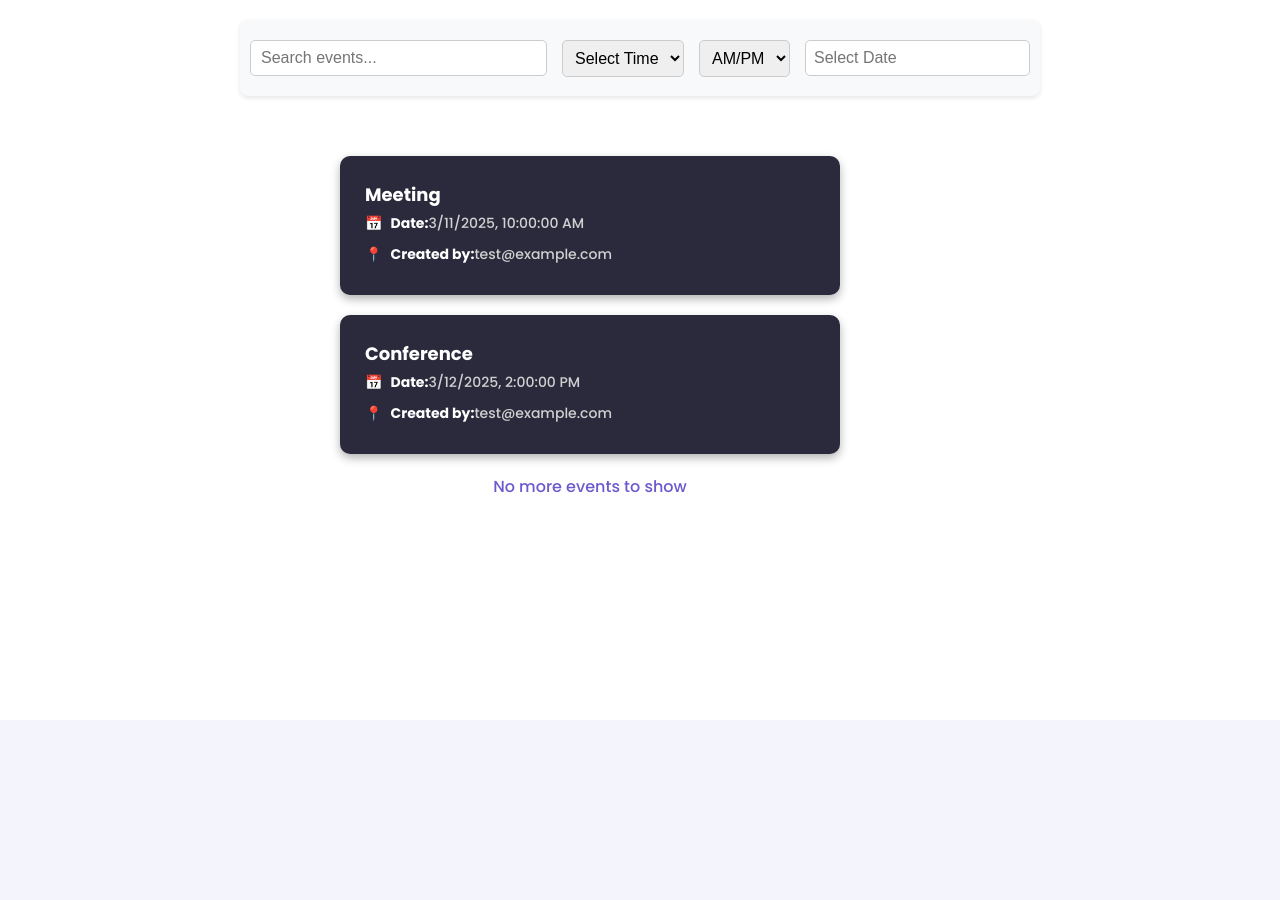
it: MyEvents Component › opens the event popup when an event is clicked
The width and height of the screenshot is (1280, 900).
Click the heading "Meeting". click: (403, 194)
box: x1=365 y1=182 x2=441 y2=207
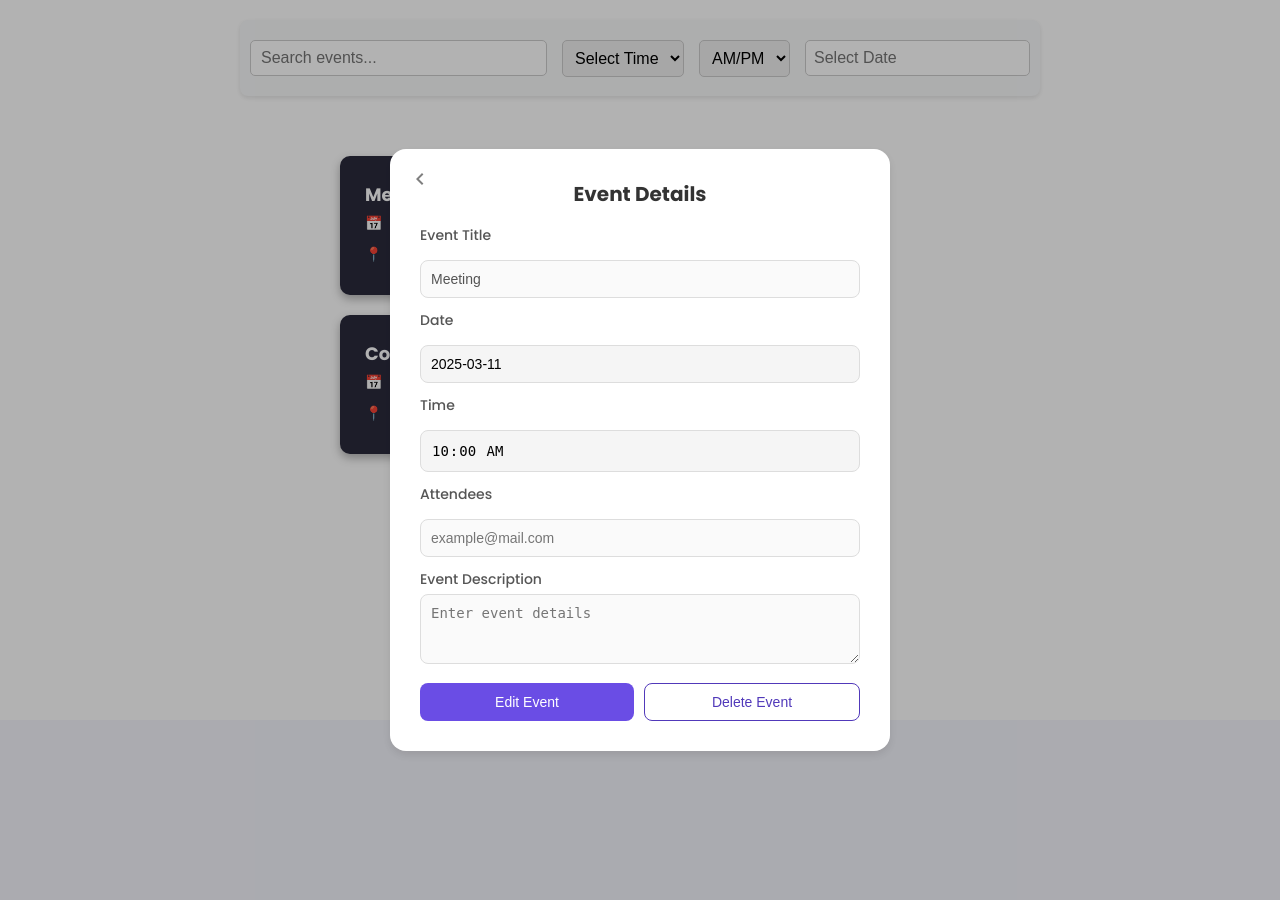
Result: the heading "Event Details" is shown at x1=574 y1=180 x2=706 y2=208
